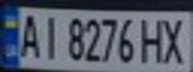2: (81, 15, 103, 62)
6: (115, 15, 142, 64)
7: (100, 15, 121, 63)
8: (63, 14, 84, 62)
A: (15, 10, 42, 60)
H: (136, 15, 169, 64)
I: (36, 11, 63, 61)
X: (157, 15, 190, 65)
